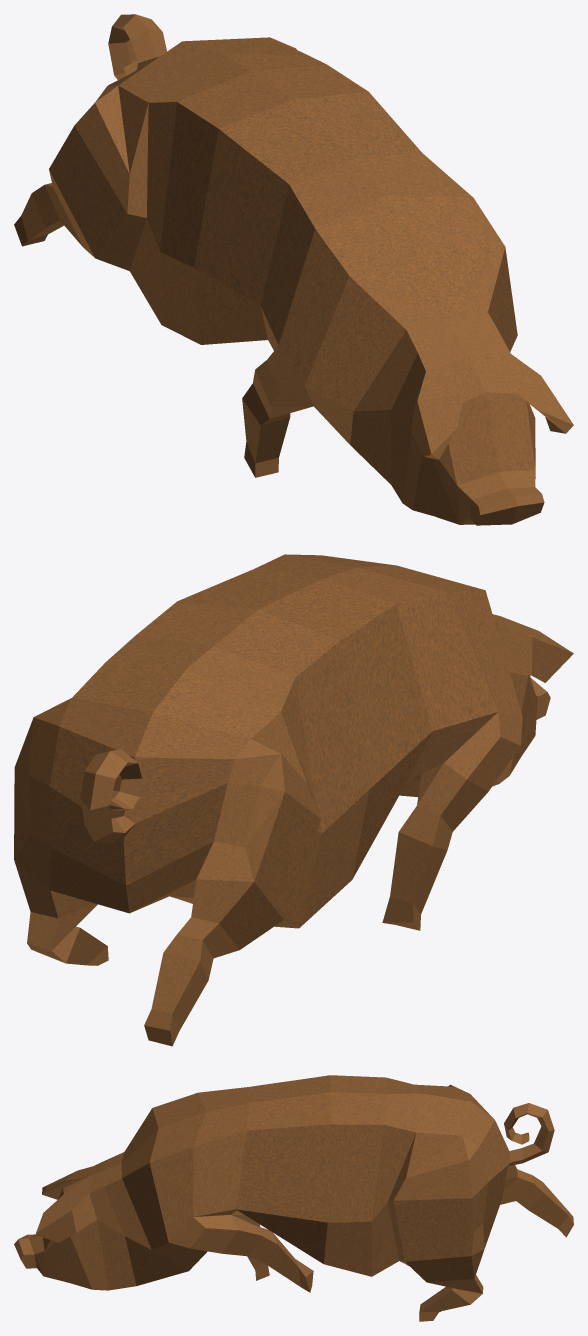
The model's file is Pig_000001.obj.
3 renders of one model, top to bottom at view 1: azimuth 30°, elevation 25°; view 2: azimuth 150°, elevation 25°; view 3: azimuth 270°, elevation 25°, orthographic. The views are drawn at different scales.
Parts seen in each view (by area): view 1: Pig_Cylinder; view 2: Pig_Cylinder; view 3: Pig_Cylinder.
Part boxes in pixels (box(x1,y1,x2,y2)): Pig_Cylinder: box(14, 14, 573, 525); Pig_Cylinder: box(14, 554, 573, 1046); Pig_Cylinder: box(14, 1075, 573, 1321).
Bounding box in the file's own units: 3.4 × 4.11 × 9.84.
1 material, 1 textured.
